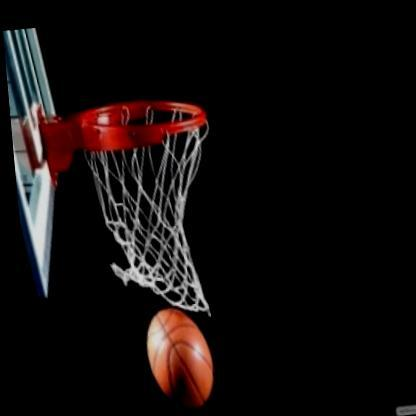basketball: (127, 295, 220, 414)
rim: (59, 83, 246, 333)
